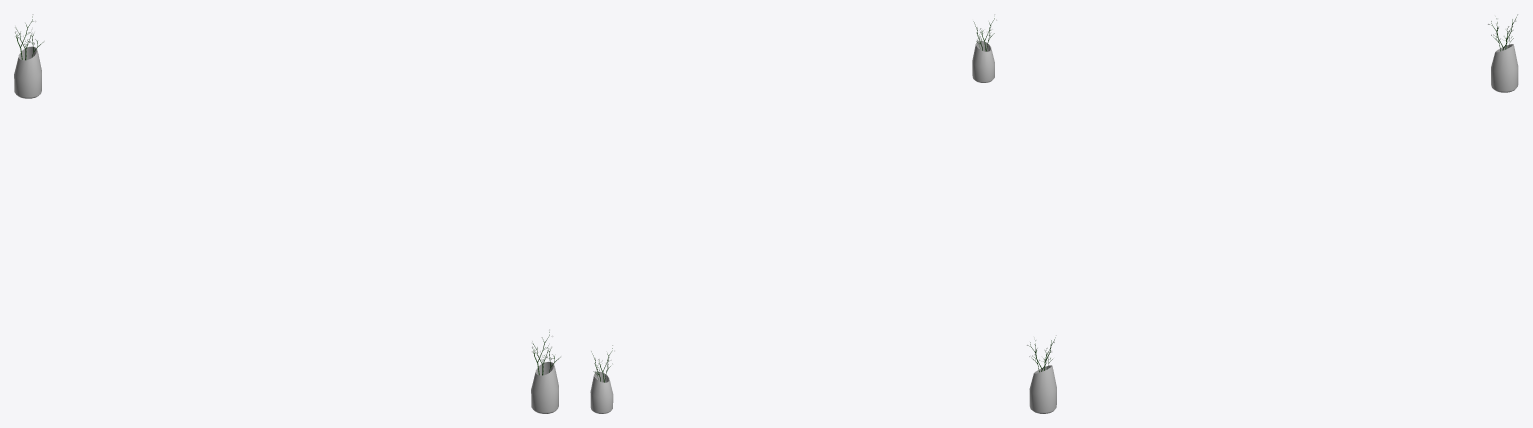
The model's file is flower vesa.fbx.
The picture shows the model from 3 angles, left to right: view 1: azimuth 30°, elevation 25°; view 2: azimuth 150°, elevation 25°; view 3: azimuth 330°, elevation 25°; orthographic projection. The views are drawn at different scales.
Parts seen in each view (by area): view 1: pasted__base (×2); view 2: pasted__base (×2); view 3: pasted__base (×2).
Boxes of the visible parts, left/top/right/bottom form: pasted__base (×2): left=14, top=46, right=558, bottom=413; pasted__base (×2): left=590, top=40, right=994, bottom=413; pasted__base (×2): left=1029, top=44, right=1518, bottom=413.
Bounding box in the file's own units: 52.49 × 119 × 970.
